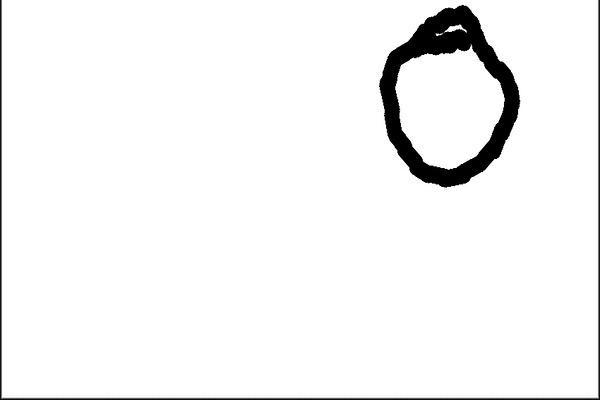O: (363, 2, 534, 197)
